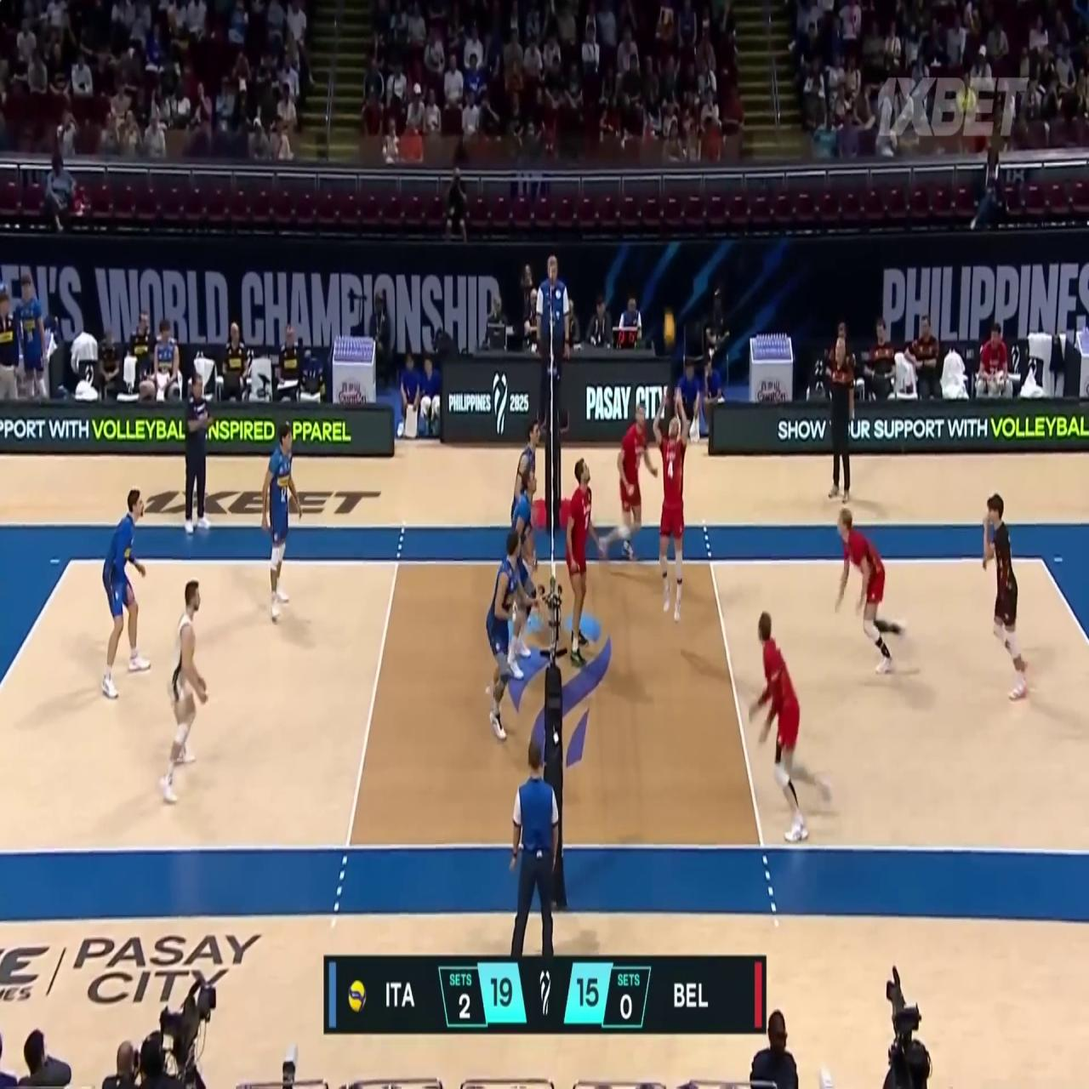ball: (664, 312, 676, 343)
